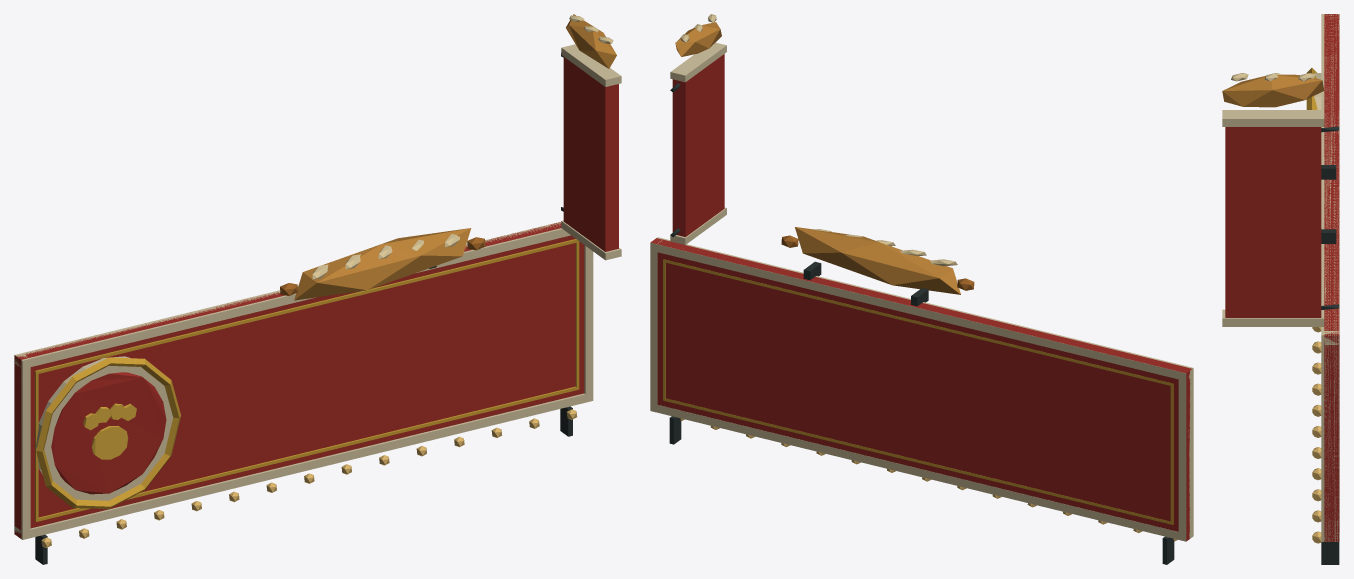
File: bang_lo_banh_52.glb
3 views of the same model, side by side, from view 1: azimuth 30°, elevation 25°; view 2: azimuth 150°, elevation 25°; view 3: azimuth 270°, elevation 25° (orthographic). The views are drawn at different scales.
Visible parts, largest first — view 1: bang_lo_banh_52; view 2: bang_lo_banh_52; view 3: bang_lo_banh_52.
Part boxes in pixels (bbox=[...]): bang_lo_banh_52: bbox=[14, 14, 621, 564]; bang_lo_banh_52: bbox=[650, 14, 1193, 564]; bang_lo_banh_52: bbox=[1222, 14, 1339, 564].
Bounding box in the file's own units: 5 × 3.55 × 0.7728.
